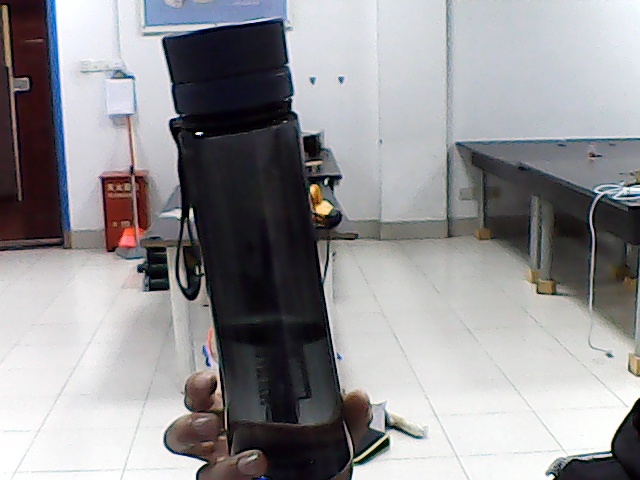cup: (184, 29, 291, 321)
